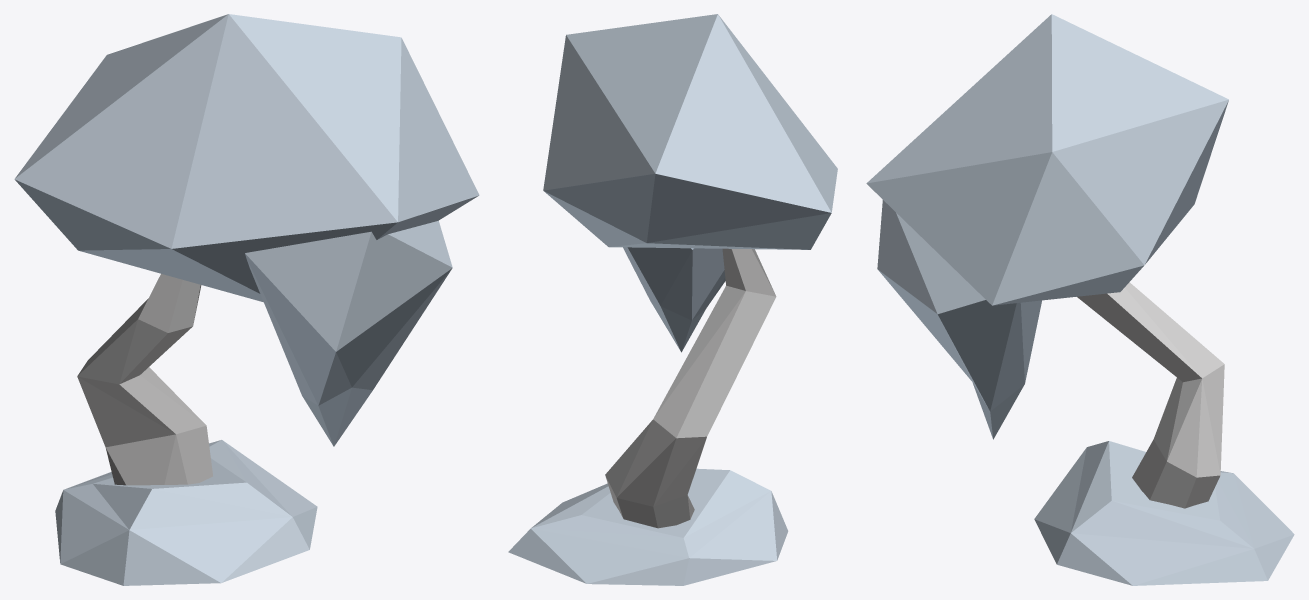
Rendered from TreeWinter3_Alt2.fbx.
3 views of the same model, side by side, from view 1: azimuth 30°, elevation 25°; view 2: azimuth 150°, elevation 25°; view 3: azimuth 270°, elevation 25° (orthographic). The views are drawn at different scales.
Visible parts, largest first — view 1: TreeWinter3_Alt2; view 2: TreeWinter3_Alt2; view 3: TreeWinter3_Alt2.
Part boxes in pixels (left/top/right/bottom): TreeWinter3_Alt2: left=14, top=14, right=479, bottom=585; TreeWinter3_Alt2: left=508, top=14, right=837, bottom=585; TreeWinter3_Alt2: left=866, top=14, right=1294, bottom=585.
Bounding box in the file's own units: 1.24 × 1.69 × 1.28.
